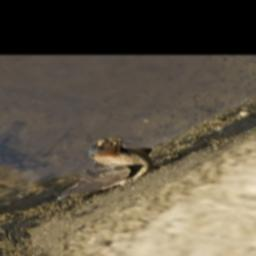Swallow: (49, 134, 173, 208)
